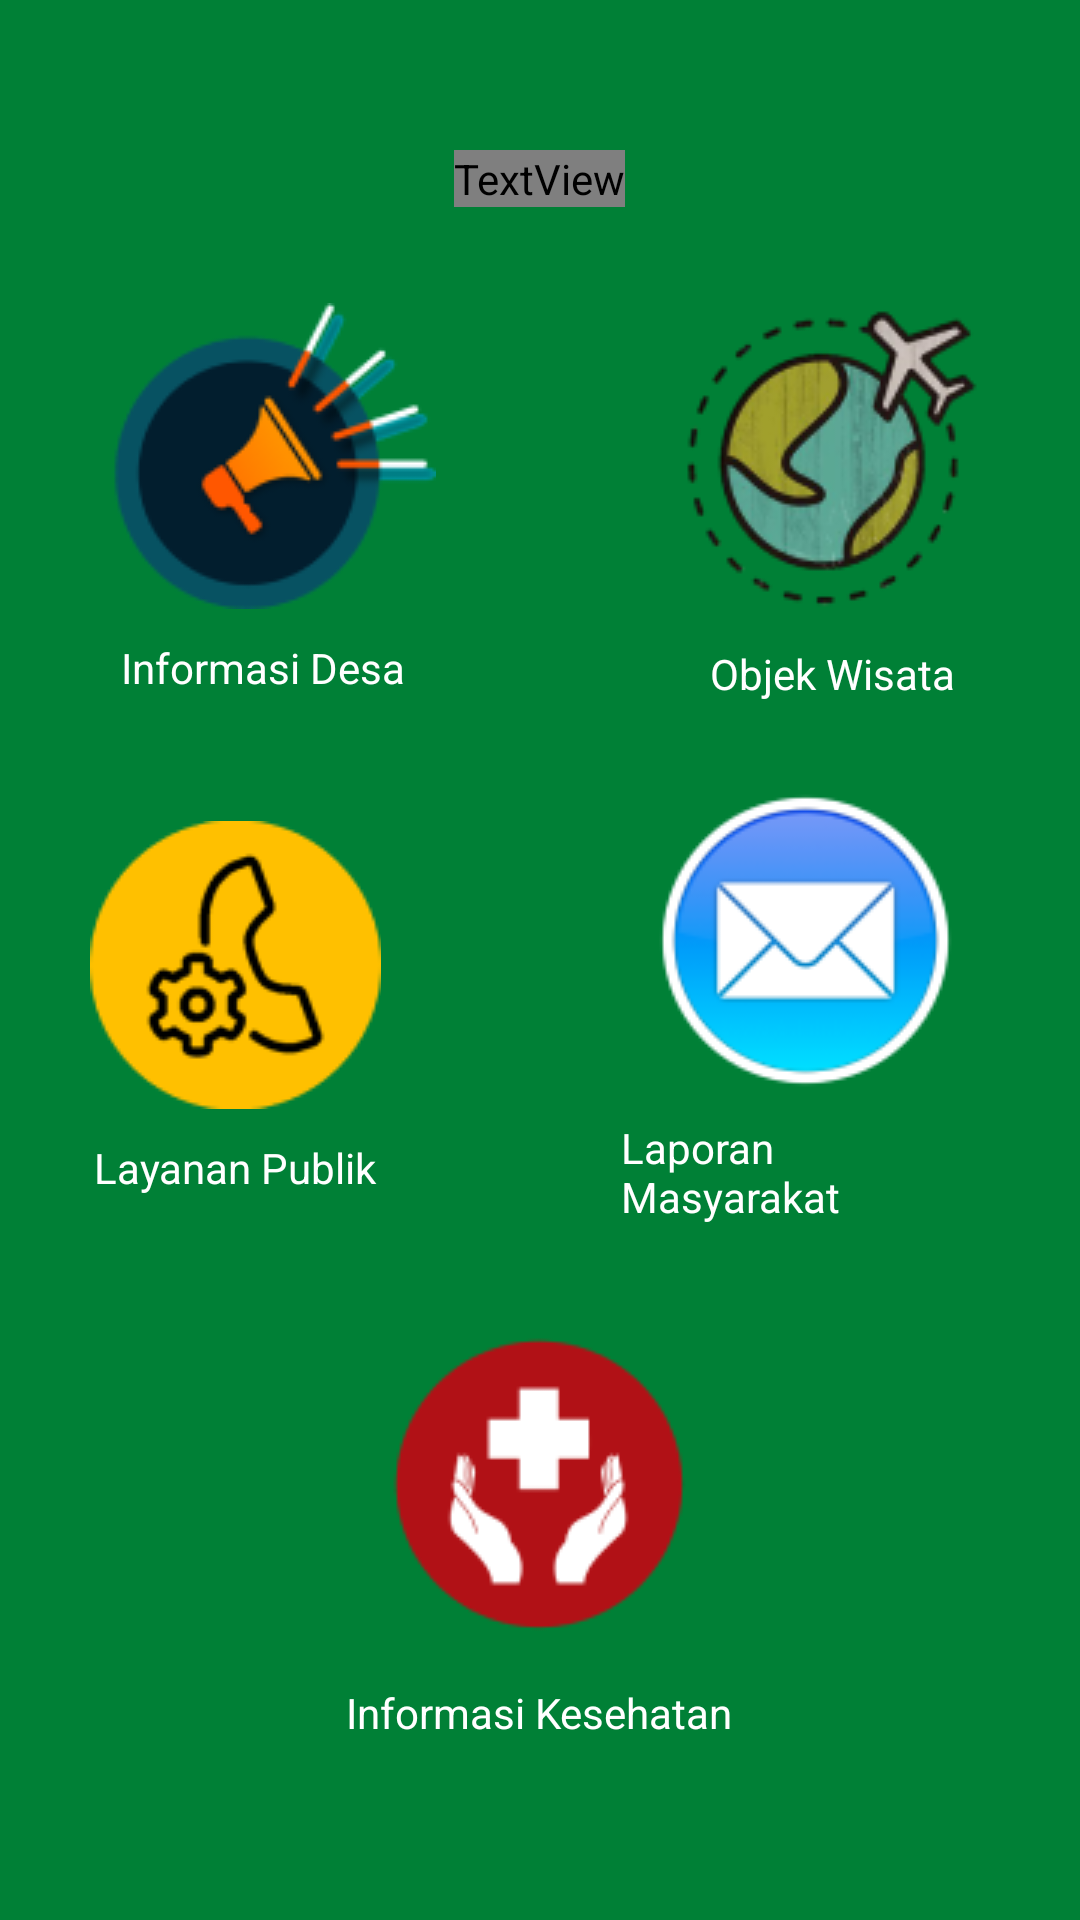

Icon click points for this 1080*1920 phone screenshot, format point (x, y):
news: point (275, 456)
